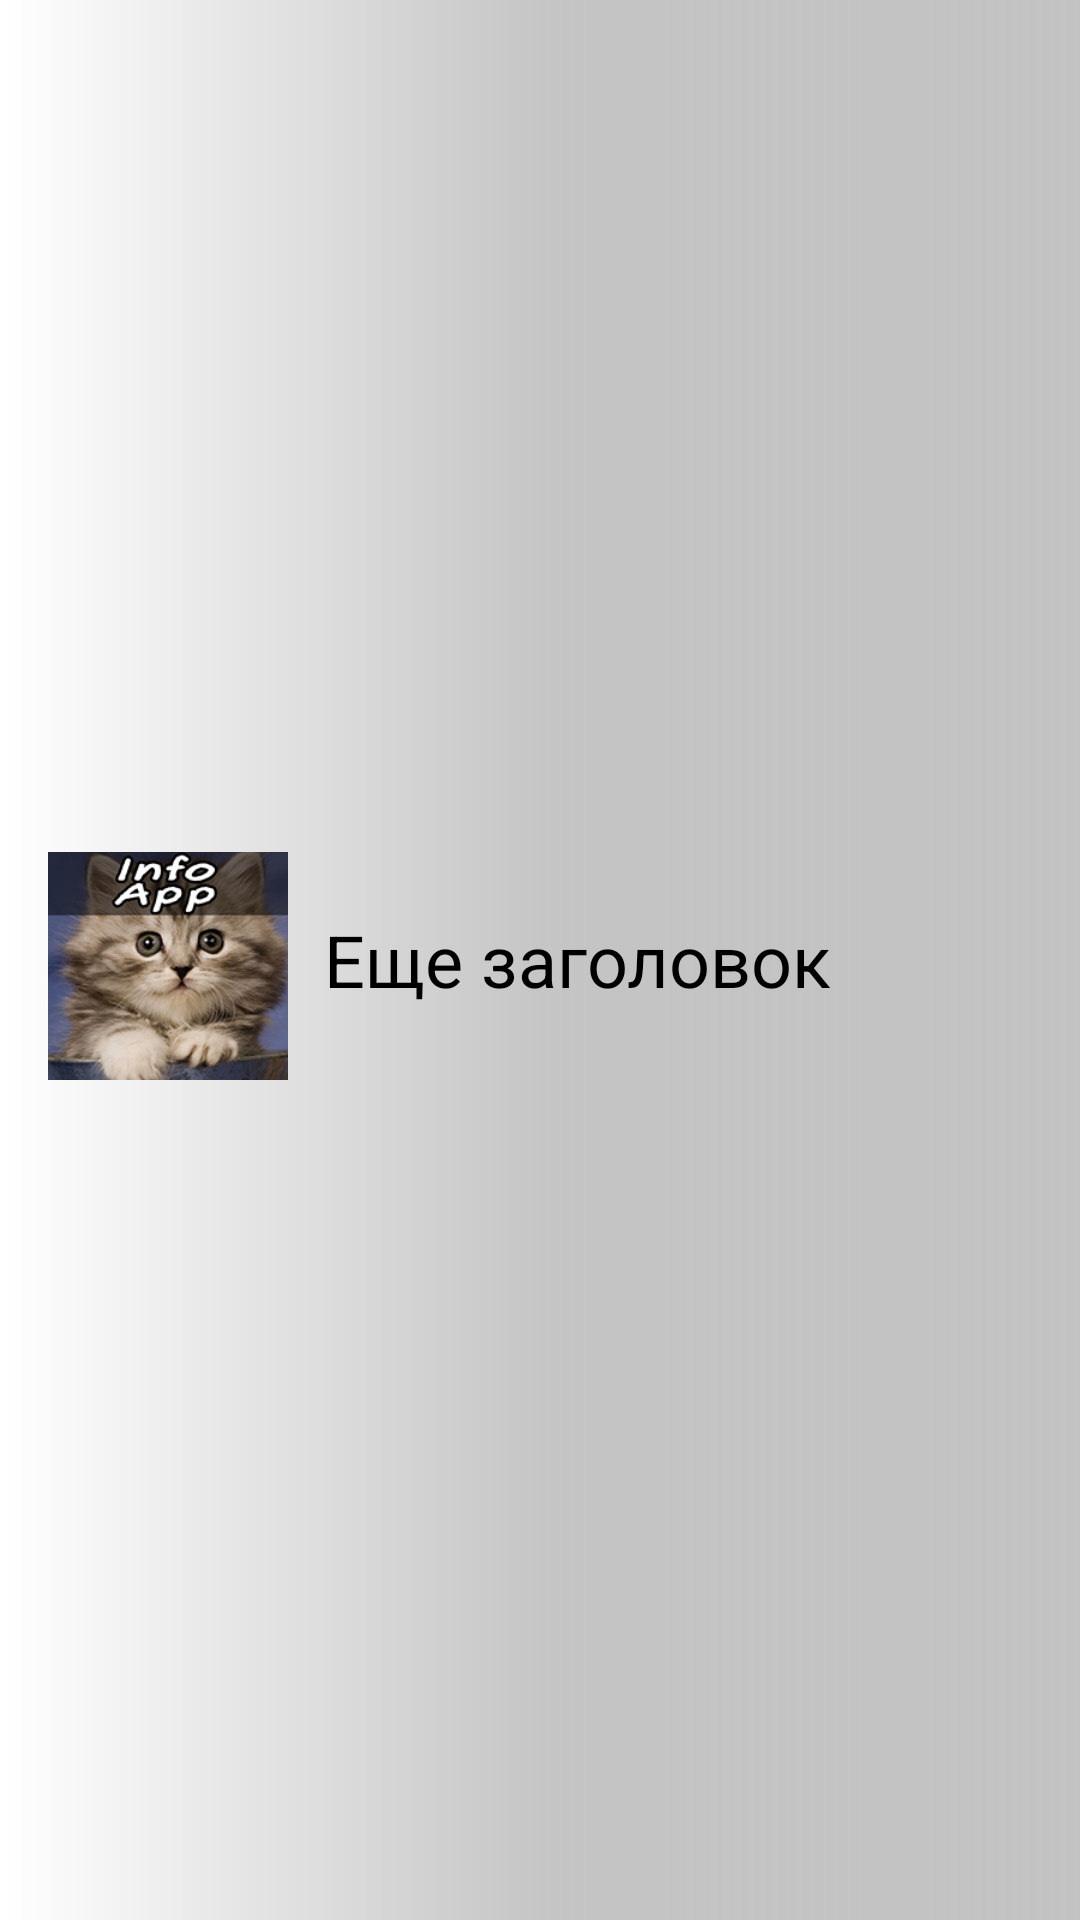

Named icons in this screenshot (1080px x 1920px) and their centers, (x,y):
ikonka: (168,960)
